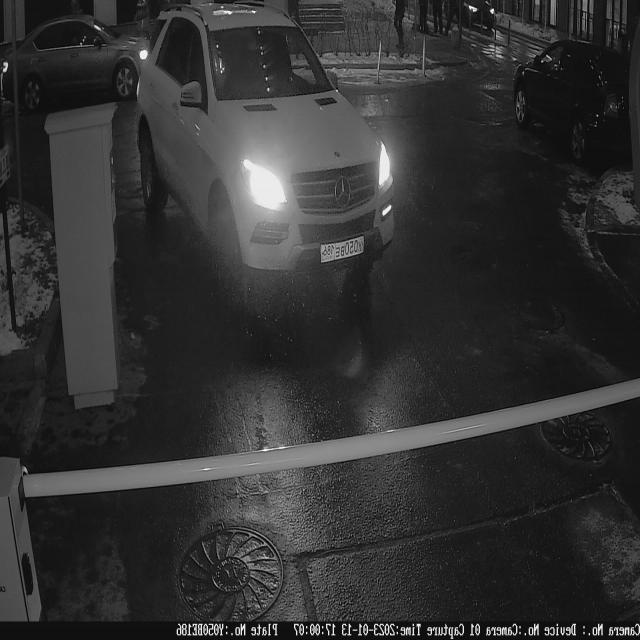car-plate-numbers: (319, 232, 368, 268)
